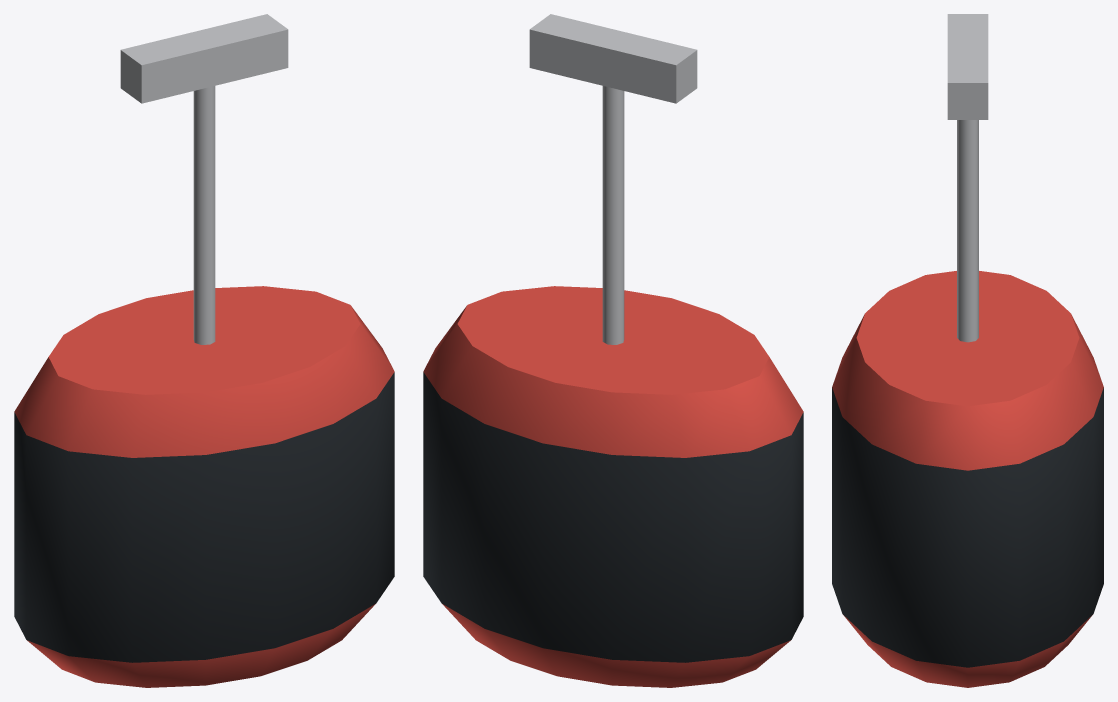
The model's file is SM_CableCar_Cabin.fbx.
3 views of the same model, side by side, from view 1: azimuth 30°, elevation 25°; view 2: azimuth 150°, elevation 25°; view 3: azimuth 270°, elevation 25° (orthographic). The views are drawn at different scales.
Visible parts, largest first — view 1: SM_CableCar_Cabin; view 2: SM_CableCar_Cabin; view 3: SM_CableCar_Cabin.
Boxes of the visible parts, bbox=[...] form: SM_CableCar_Cabin: bbox=[14, 14, 394, 687]; SM_CableCar_Cabin: bbox=[423, 14, 803, 687]; SM_CableCar_Cabin: bbox=[832, 14, 1103, 687].
Size of the model in its own units: 291 by 465 by 200.
